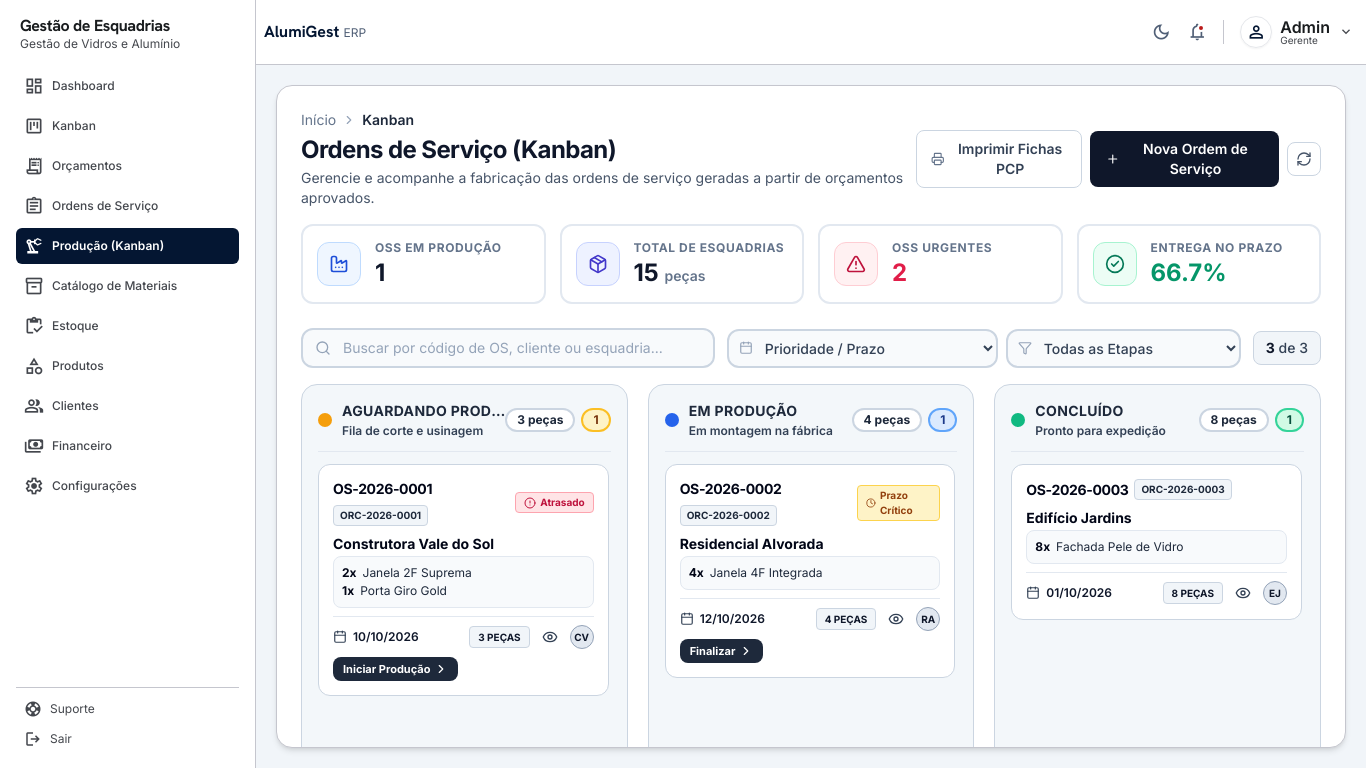
Test case: US-18: Acompanhar Produção via Painel Kanban de Pedidos de Venda (Suíte E2E) › Cenário 4 [US-18.5]: Filtros em Tempo Real (Busca, Prazo e Reset)
This screenshot has width=1366, height=768.
Note: Busca por código de OS
In the field with test id "input-search-kanban": (508, 348) [301, 328, 715, 368], type "OS-2026-0002"
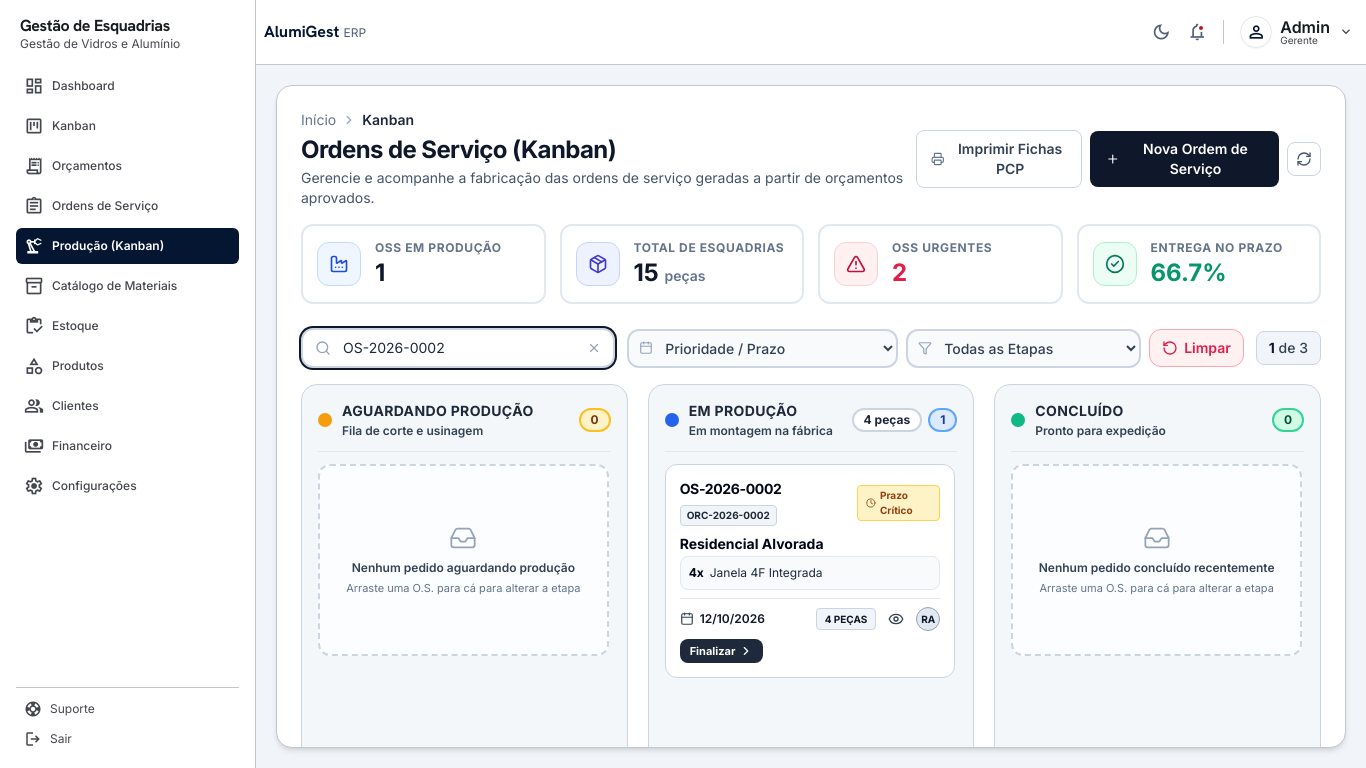
Expected: the text "OS-2026-0001" is gone
Expected: the text "OS-2026-0003" is gone
Expected: the element with test id "filter-counter-badge" reads "1 de 3", [1256, 331, 1321, 365]
Note: Limpar busca pelo botão 'X'
Click the button with test id "btn-clear-search-text": (594, 348) [583, 337, 605, 359]
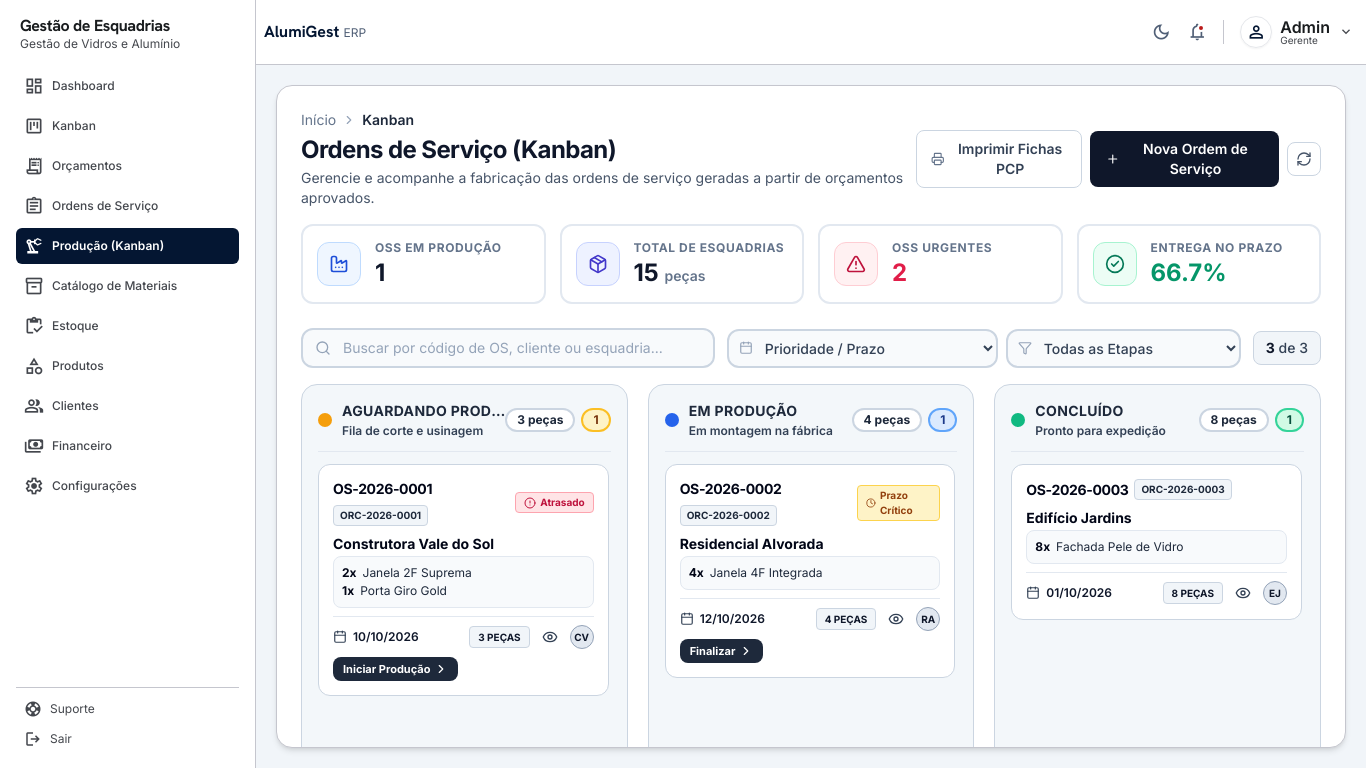
Expected: the text "OS-2026-0001" is shown, [333, 479, 432, 499]
Expected: the text "OS-2026-0003" is shown, [1026, 480, 1128, 500]
Note: Busca por nome do cliente
In the field with test id "input-search-kanban": (508, 348) [301, 328, 715, 368], type "Jardins"
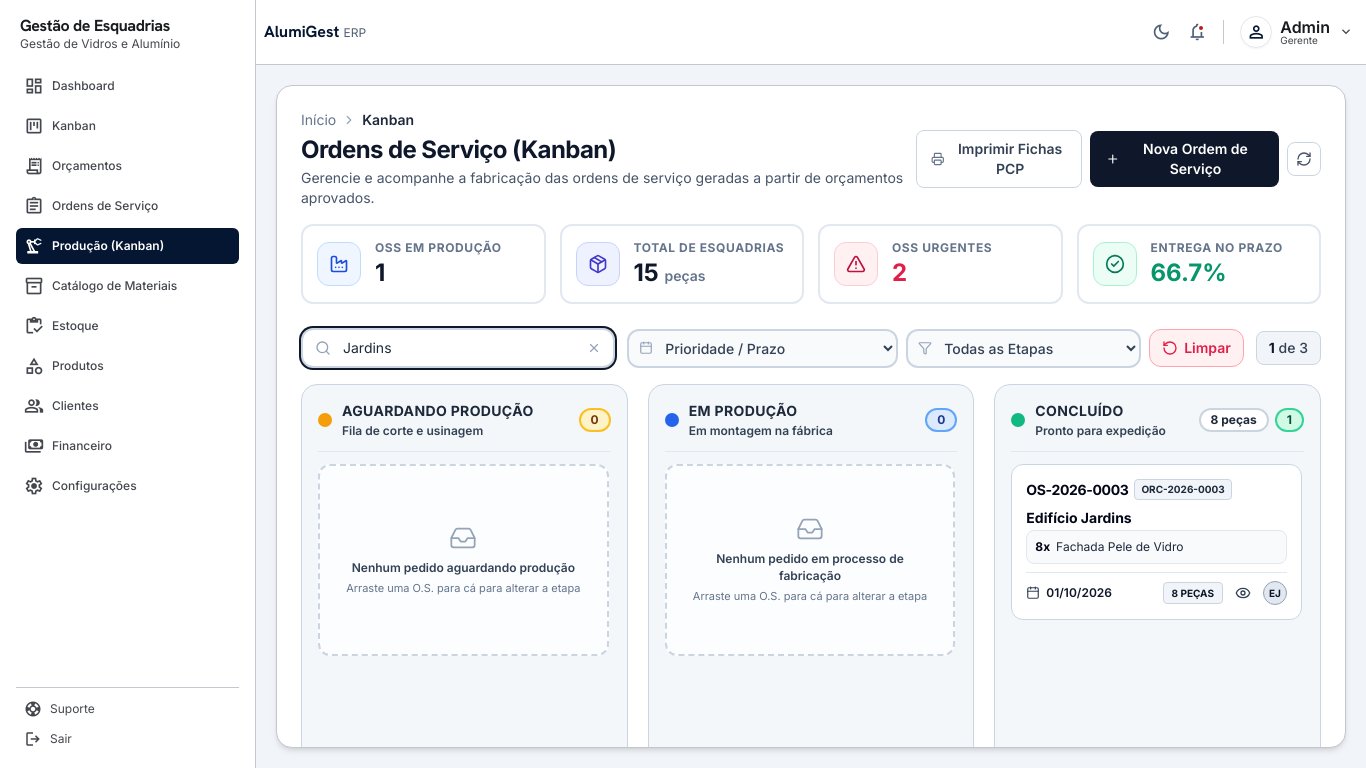
Expected: the text "OS-2026-0003" is shown, [1026, 480, 1128, 500]
Expected: the text "OS-2026-0001" is gone
Note: Reset total de filtros
Click the button with test id "btn-clear-all-filters": (1197, 348) [1149, 329, 1244, 367]
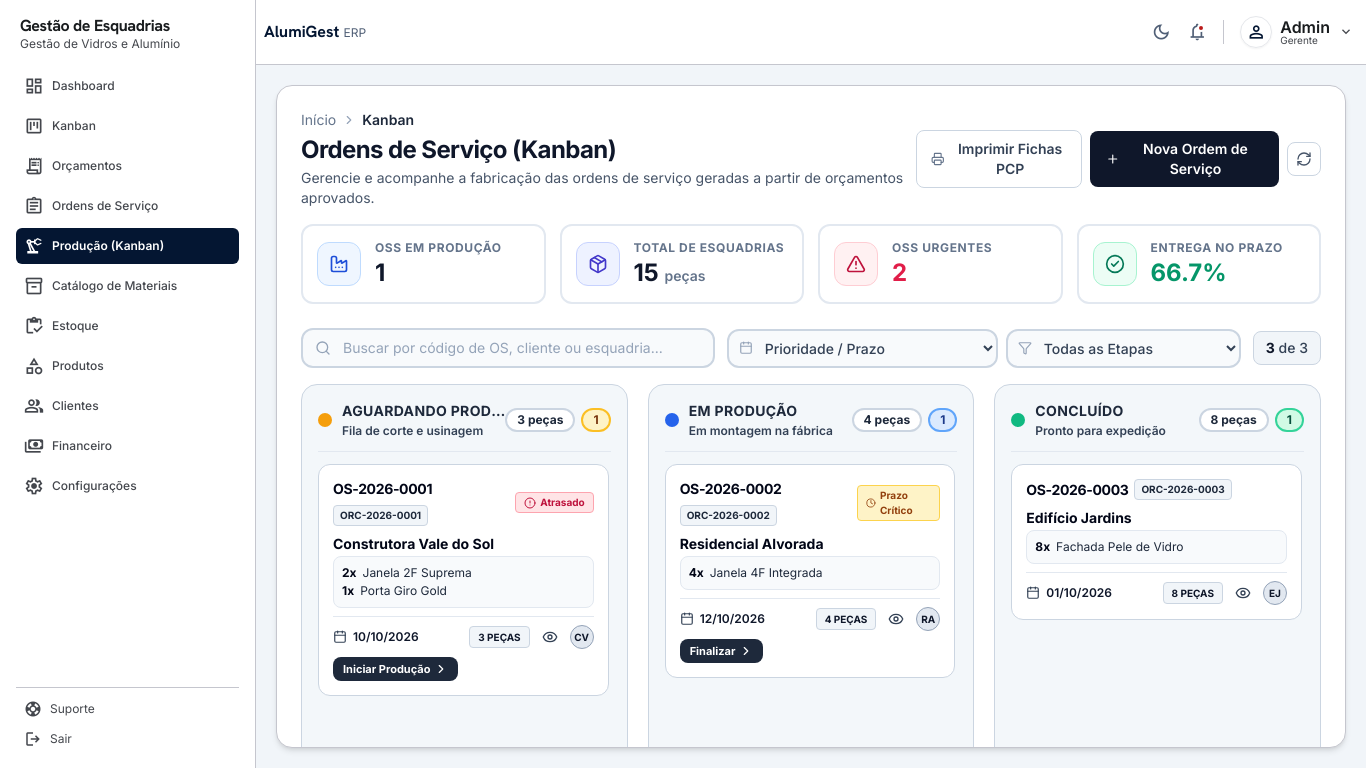
Expected: the text "OS-2026-0003" is shown, [1026, 480, 1128, 500]
Expected: the text "OS-2026-0001" is shown, [333, 479, 432, 499]
Expected: the text "OS-2026-0002" is shown, [680, 479, 782, 499]
Note: Filtro por Prazo (Apenas Atrasados)
Select "🔴 Atrasados (< 0 dias)" in the dropdown with test id "select-filter-deadline": (863, 349) [727, 329, 998, 368]
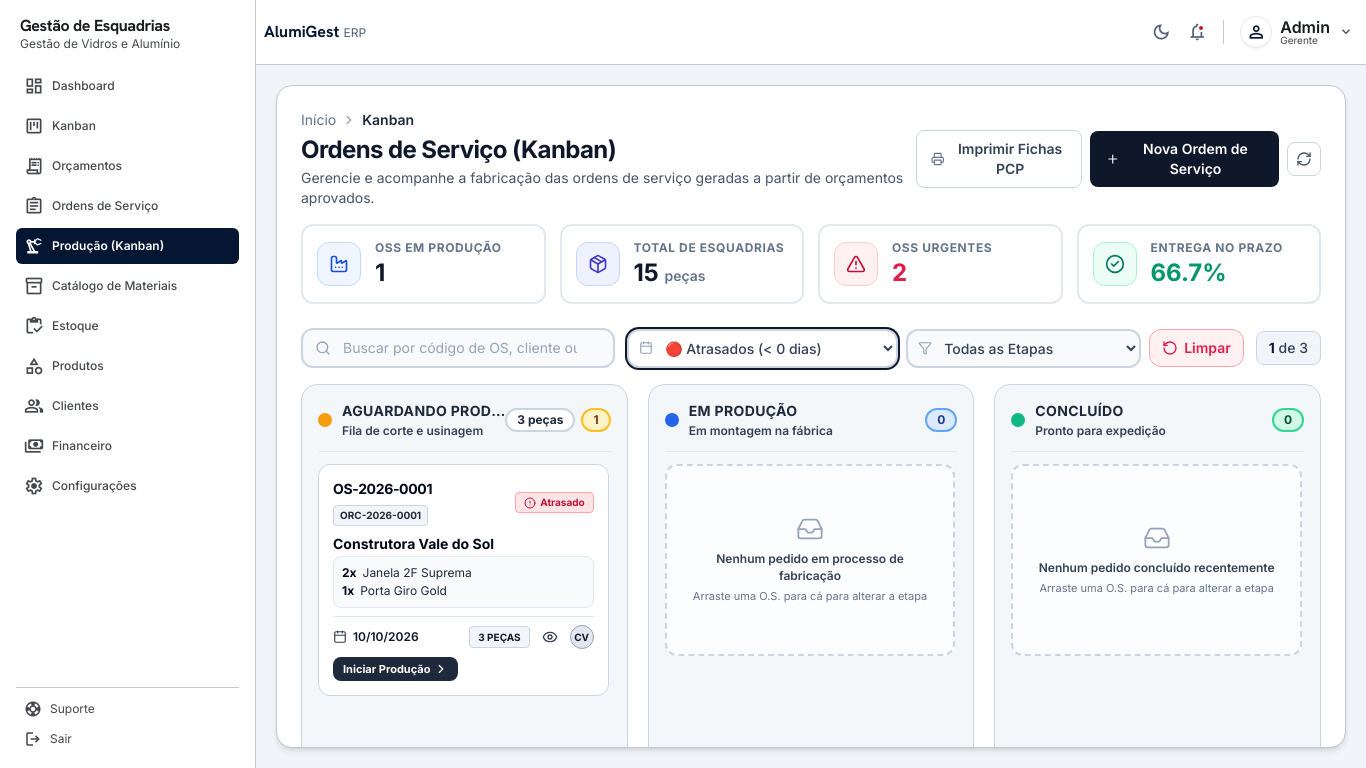
Expected: the text "OS-2026-0001" is shown, [333, 479, 432, 499]
Expected: the text "OS-2026-0002" is gone
Expected: the text "OS-2026-0003" is gone
